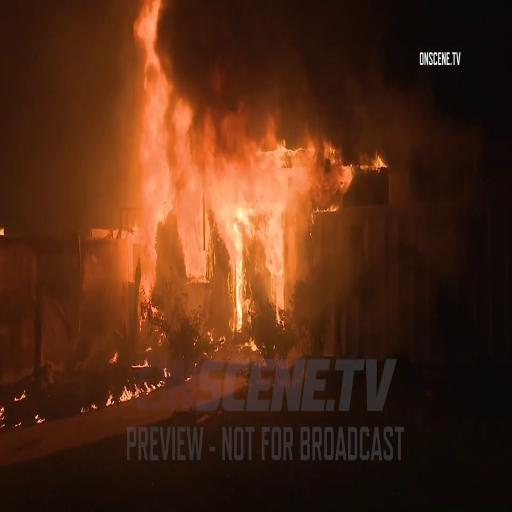fire: (131, 19, 291, 317)
